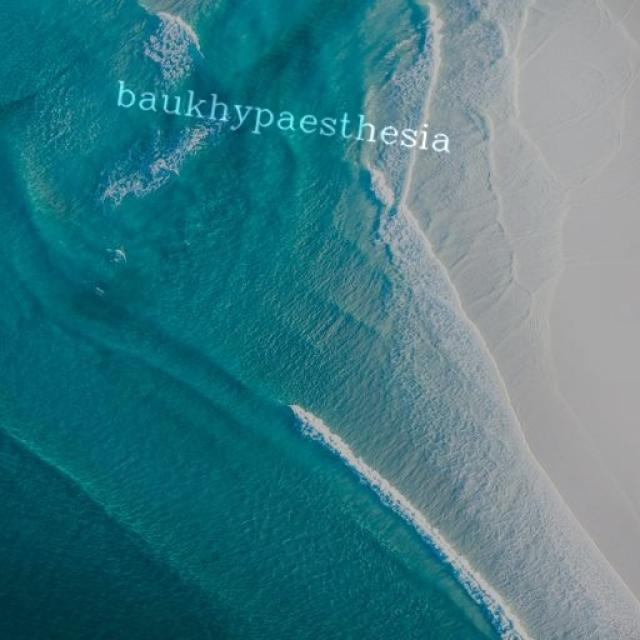watermark: (104, 78, 475, 158)
